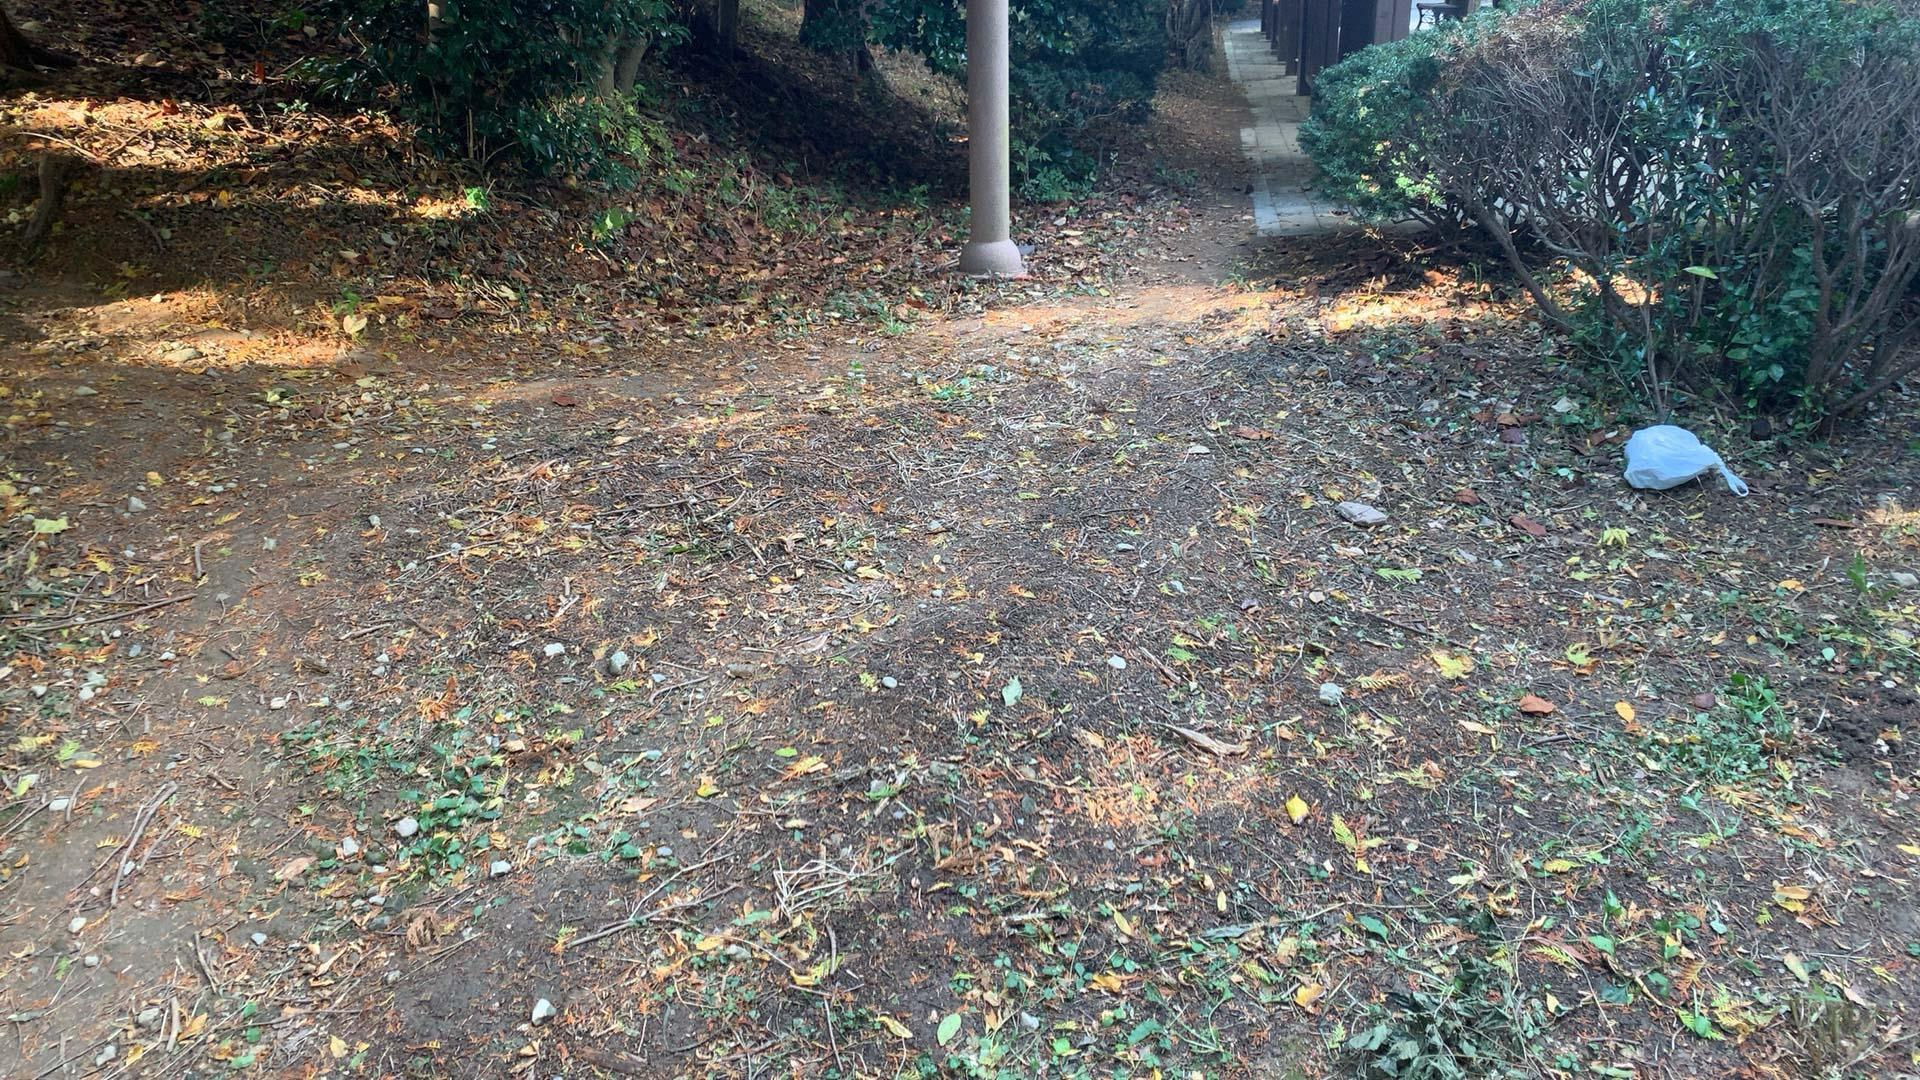white_bag: (1614, 422, 1753, 506)
